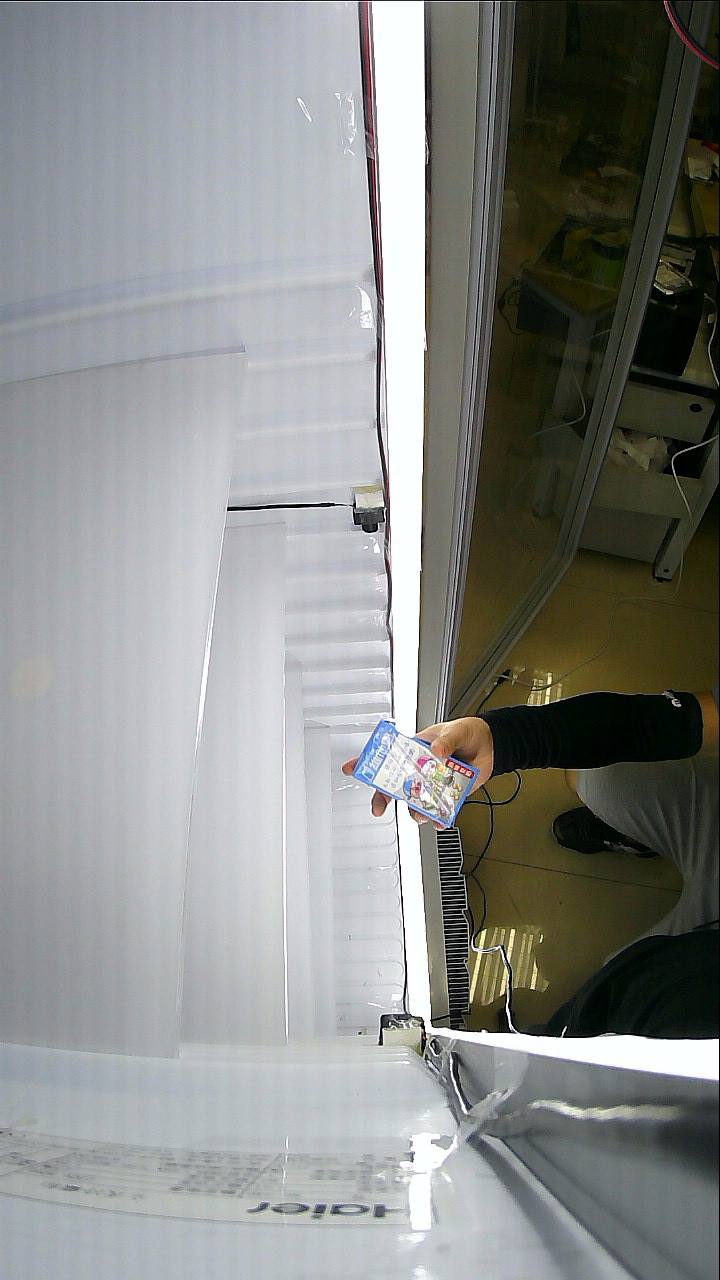VitaSoyOriginal: (347, 713, 517, 833)
